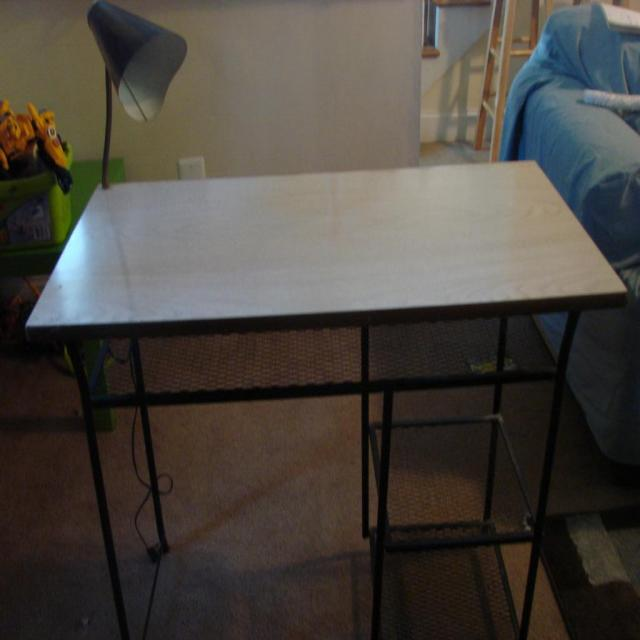table: (28, 158, 627, 640)
